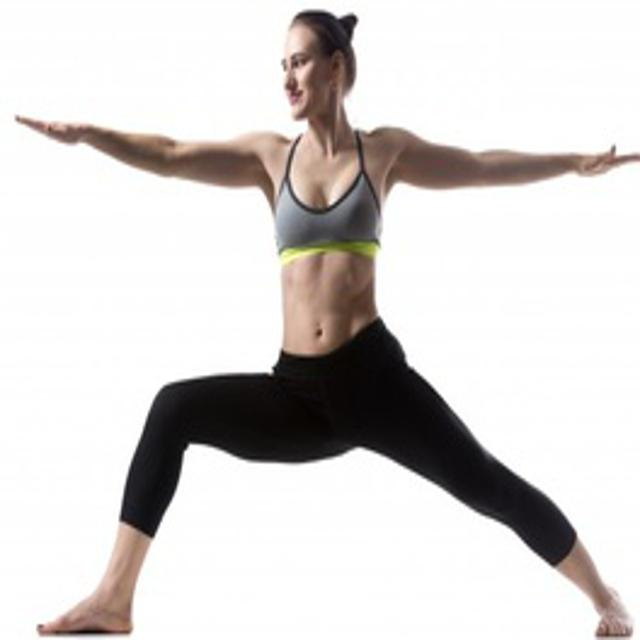Warrior_II: (14, 10, 635, 640)
